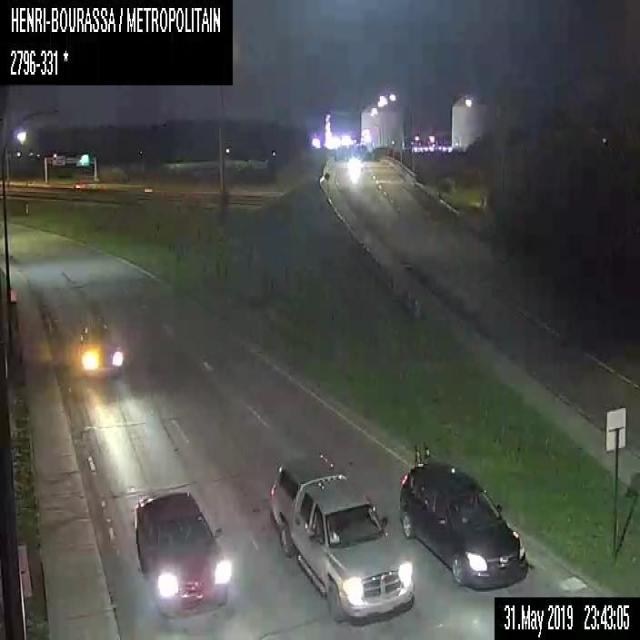vehicle: (267, 457, 415, 623), (397, 456, 529, 592), (135, 487, 230, 616), (76, 316, 124, 377)
